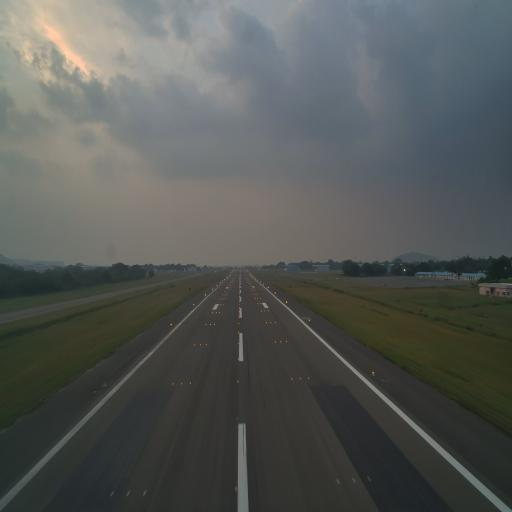off: (102, 381, 108, 389), (237, 414, 239, 422)
on: (125, 487, 132, 499), (142, 486, 148, 500), (365, 473, 371, 486), (351, 474, 358, 485), (110, 489, 116, 501), (233, 485, 239, 496), (370, 368, 376, 376), (336, 477, 341, 484), (171, 382, 175, 386), (189, 380, 191, 387), (237, 380, 240, 384), (290, 377, 293, 381), (307, 375, 309, 381), (205, 343, 208, 347), (285, 340, 288, 344), (299, 376, 301, 381), (181, 381, 183, 386), (238, 356, 240, 361), (194, 342, 196, 346), (200, 343, 202, 347), (274, 340, 276, 344), (280, 340, 282, 343), (238, 342, 240, 344)
